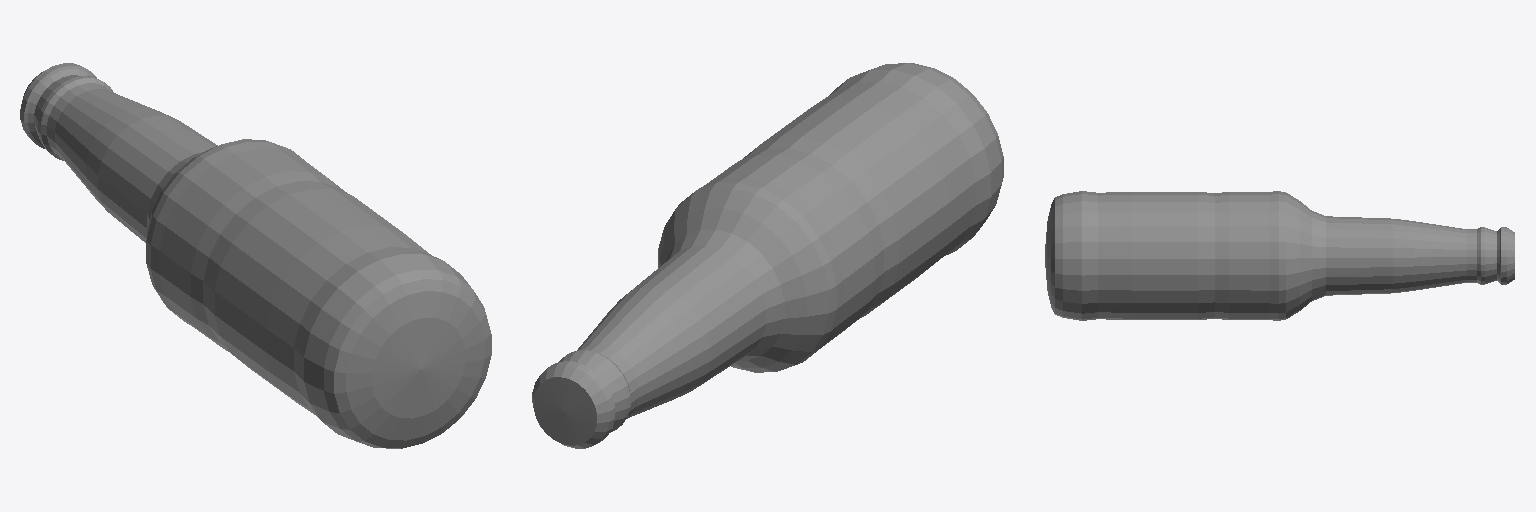
URDF robot description (cube.urdf):
<?xml version="0.0" ?> 
<robot name="cube.urdf"> 
<link name="legobrick"> 
<contact> 
<lateral_friction value="1.0"/>
<rolling_friction value="0.0"/>
<contact_cfm value="0.0"/>
<contact_erp value="1.0"/>
</contact> 
<inertial> 
<origin rpy="0 0 0" xyz="0.0 0.0 0.0"/> 
<mass value="0.1"/> 
<inertia ixx="1" ixy="0" ixz="0" iyy="1" iyz="0" izz="1"/> 
</inertial> 
<visual> 
<origin rpy="1.570796 0 0" xyz="4.155124654047705e-09 -0.013978038781163342 1.3850415522950704e-09"/> 
<geometry> 
<mesh filename="970027a2c9f1de88c123147a914238ea.obj" scale="1 1 1"/> 
</geometry> 
<material name="yellow"> 
<color rgba="0.6 0.6 0.6 1"/> 
</material> 
</visual> 
<collision> 
<origin rpy="1.570796 0 0" xyz="4.155124654047705e-09 -0.013978038781163342 1.3850415522950704e-09"/> 
<geometry> 
<mesh filename="970027a2c9f1de88c123147a914238ea_col.obj" scale="1 1 1"/> 
</geometry> 
</collision> 
</link> 
</robot>

--- Render facts (derived) ---
3 views of the same robot in one strip: view 1: azimuth 30°, elevation 25°; view 2: azimuth 150°, elevation 25°; view 3: azimuth 270°, elevation 25° (orthographic).
Robot: cube.urdf — 1 links, 0 joints (none); root link legobrick; default pose: all joints at 0.
Visible links, largest first — view 1: legobrick; view 2: legobrick; view 3: legobrick.
Link boxes in pixels (x1,y1,x2,y2): legobrick: (20,63,491,448); legobrick: (532,63,1003,448); legobrick: (1045,191,1514,320).
Bounding box of the posed robot: 0.045 × 0.1642 × 0.045 m (x, y, z).
1 mesh visuals loaded from 1 distinct referenced files (1 OBJ).